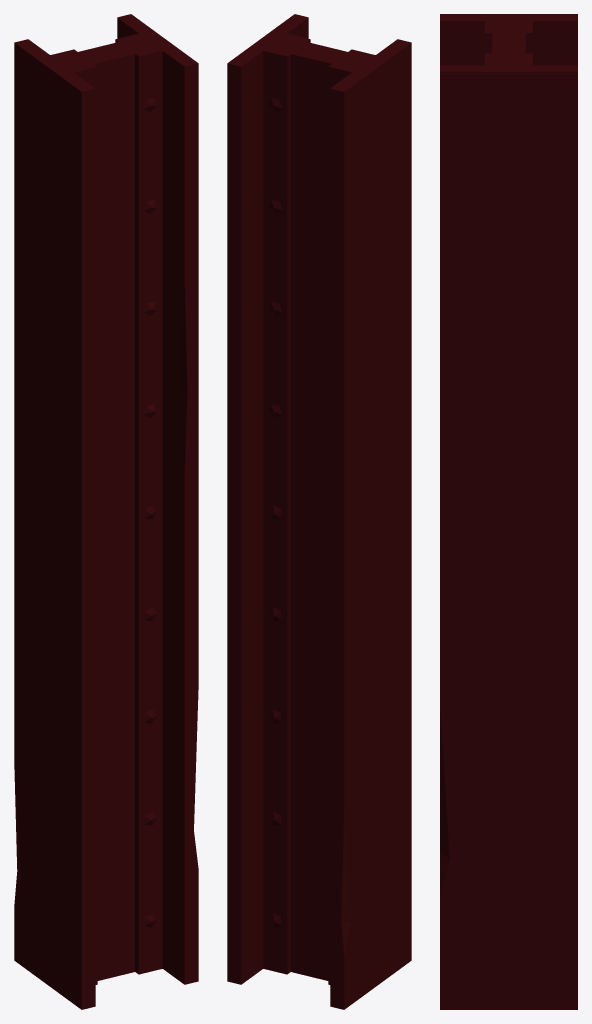
Rendered from SW_ENV_PillarGirderMid_3m_Drk.fbx.
3 renders of one model, left to right at view 1: azimuth 30°, elevation 25°; view 2: azimuth 150°, elevation 25°; view 3: azimuth 270°, elevation 25°, orthographic. The views are drawn at different scales.
Parts seen in each view (by area): view 1: SW_ENV_PillarGirderMid_3m_Drk; view 2: SW_ENV_PillarGirderMid_3m_Drk; view 3: SW_ENV_PillarGirderMid_3m_Drk.
Part boxes in pixels (x1,y1,x2,y2): SW_ENV_PillarGirderMid_3m_Drk: [14, 14, 198, 1009]; SW_ENV_PillarGirderMid_3m_Drk: [227, 14, 411, 1009]; SW_ENV_PillarGirderMid_3m_Drk: [440, 14, 577, 1009].
Bounding box in the file's own units: 40 × 300 × 40.
